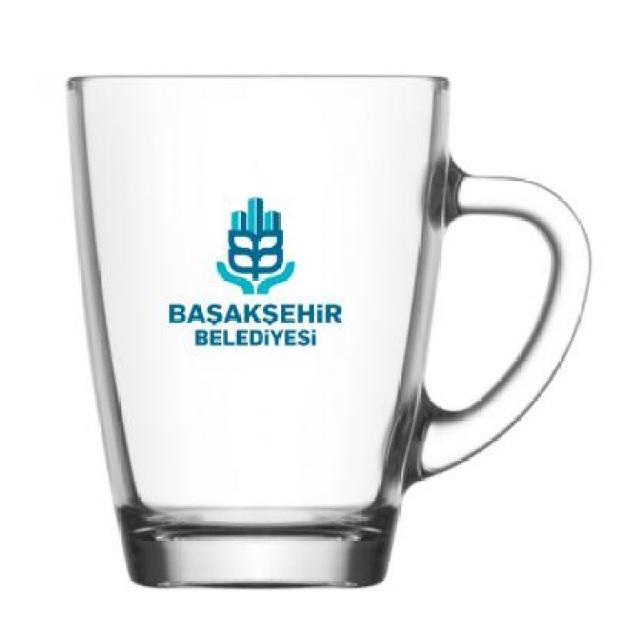taza: (62, 73, 594, 591)
